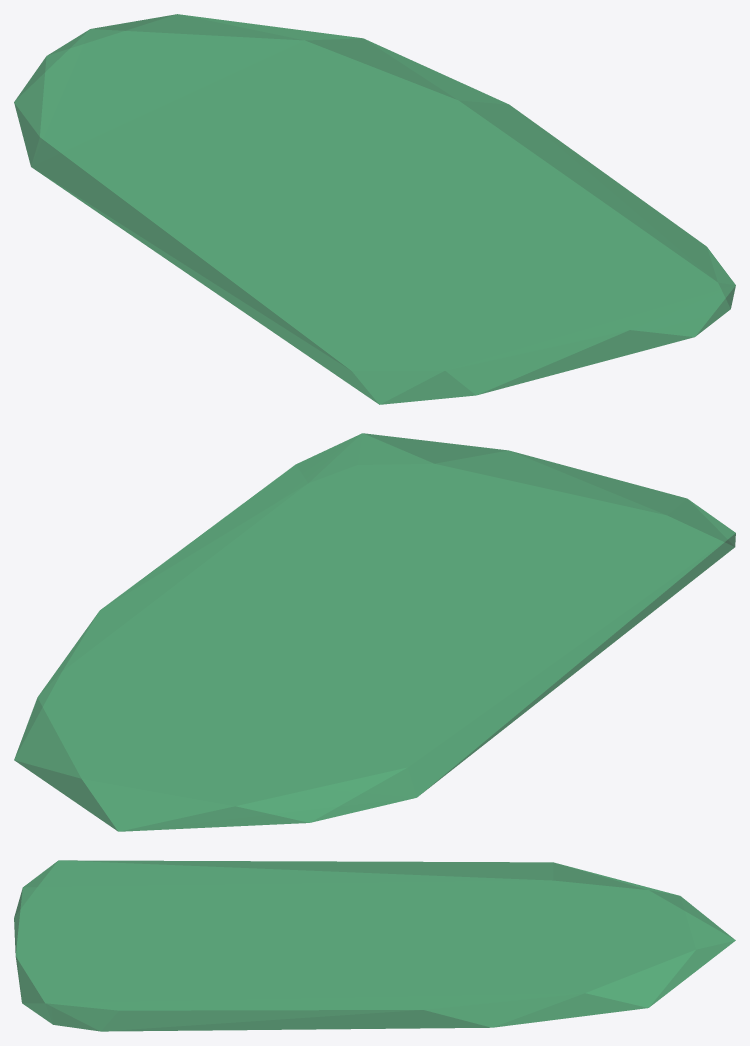
3 renders of one model, top to bottom at view 1: azimuth 30°, elevation 25°; view 2: azimuth 150°, elevation 25°; view 3: azimuth 270°, elevation 25°, orthographic. The views are drawn at different scales.
Parts seen in each view (by area): view 1: Shape_IndexedFaceSet.301_Shape_IndexedFaceSet.7913; view 2: Shape_IndexedFaceSet.301_Shape_IndexedFaceSet.7913; view 3: Shape_IndexedFaceSet.301_Shape_IndexedFaceSet.7913.
Part boxes in pixels (<box>): Shape_IndexedFaceSet.301_Shape_IndexedFaceSet.7913: <box>14,14,735,404</box>; Shape_IndexedFaceSet.301_Shape_IndexedFaceSet.7913: <box>14,433,735,831</box>; Shape_IndexedFaceSet.301_Shape_IndexedFaceSet.7913: <box>14,860,735,1031</box>.
Bounding box in the file's own units: 0.1091 × 0.00726 × 0.22.
